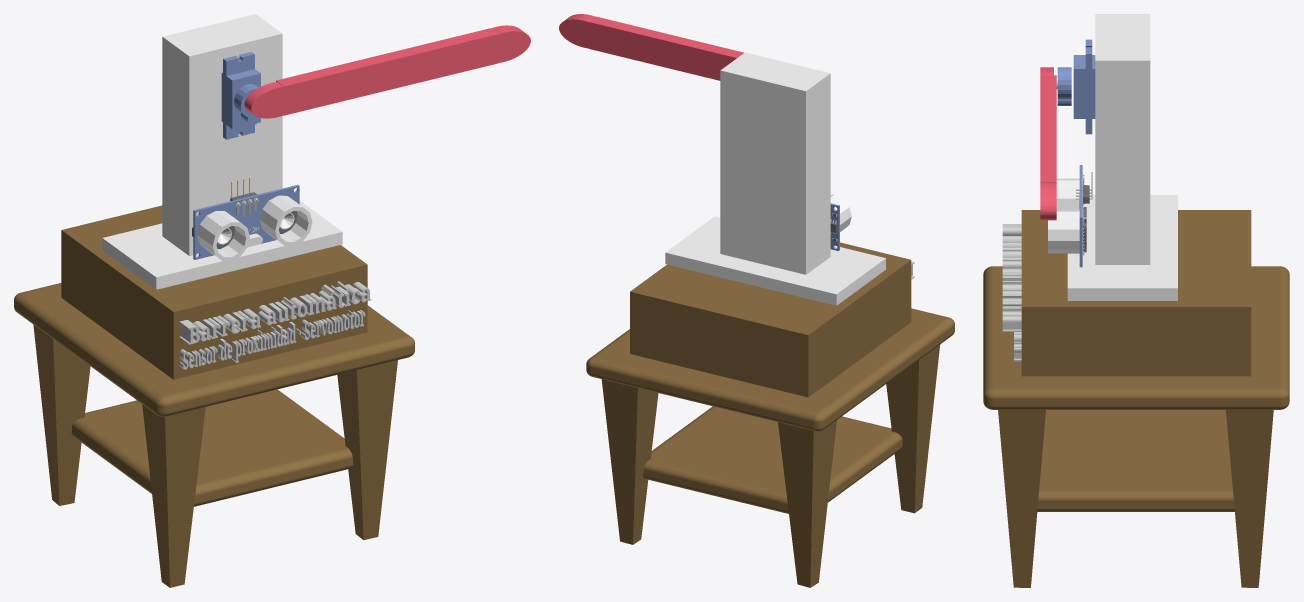
File: Barrera.glb
The picture shows the model from 3 angles, left to right: view 1: azimuth 30°, elevation 25°; view 2: azimuth 150°, elevation 25°; view 3: azimuth 270°, elevation 25°; orthographic projection. The views are drawn at different scales.
Parts seen in each view (by area): view 1: Mesh_Mesh_head_geo.001_lambert2SG.001, Mesh_Mesh_head_geo.001_lambert2SG.002; view 2: Mesh_Mesh_head_geo.001_lambert2SG.001, Mesh_Mesh_head_geo.001_lambert2SG.002; view 3: Mesh_Mesh_head_geo.001_lambert2SG.001, Mesh_Mesh_head_geo.001_lambert2SG.002.
Boxes of the visible parts, x1,y1,x2,y2 form: Mesh_Mesh_head_geo.001_lambert2SG.001: (14,205,414,587); Mesh_Mesh_head_geo.001_lambert2SG.002: (102,14,530,289); Mesh_Mesh_head_geo.001_lambert2SG.001: (586,242,954,587); Mesh_Mesh_head_geo.001_lambert2SG.002: (559,14,885,305); Mesh_Mesh_head_geo.001_lambert2SG.001: (983,210,1289,587); Mesh_Mesh_head_geo.001_lambert2SG.002: (1040,14,1177,300).
Size of the model in its own units: 4.32 by 5.04 by 2.8.
